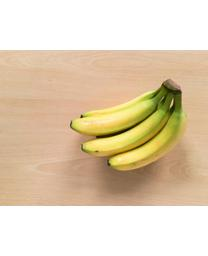banana: (69, 78, 188, 172)
